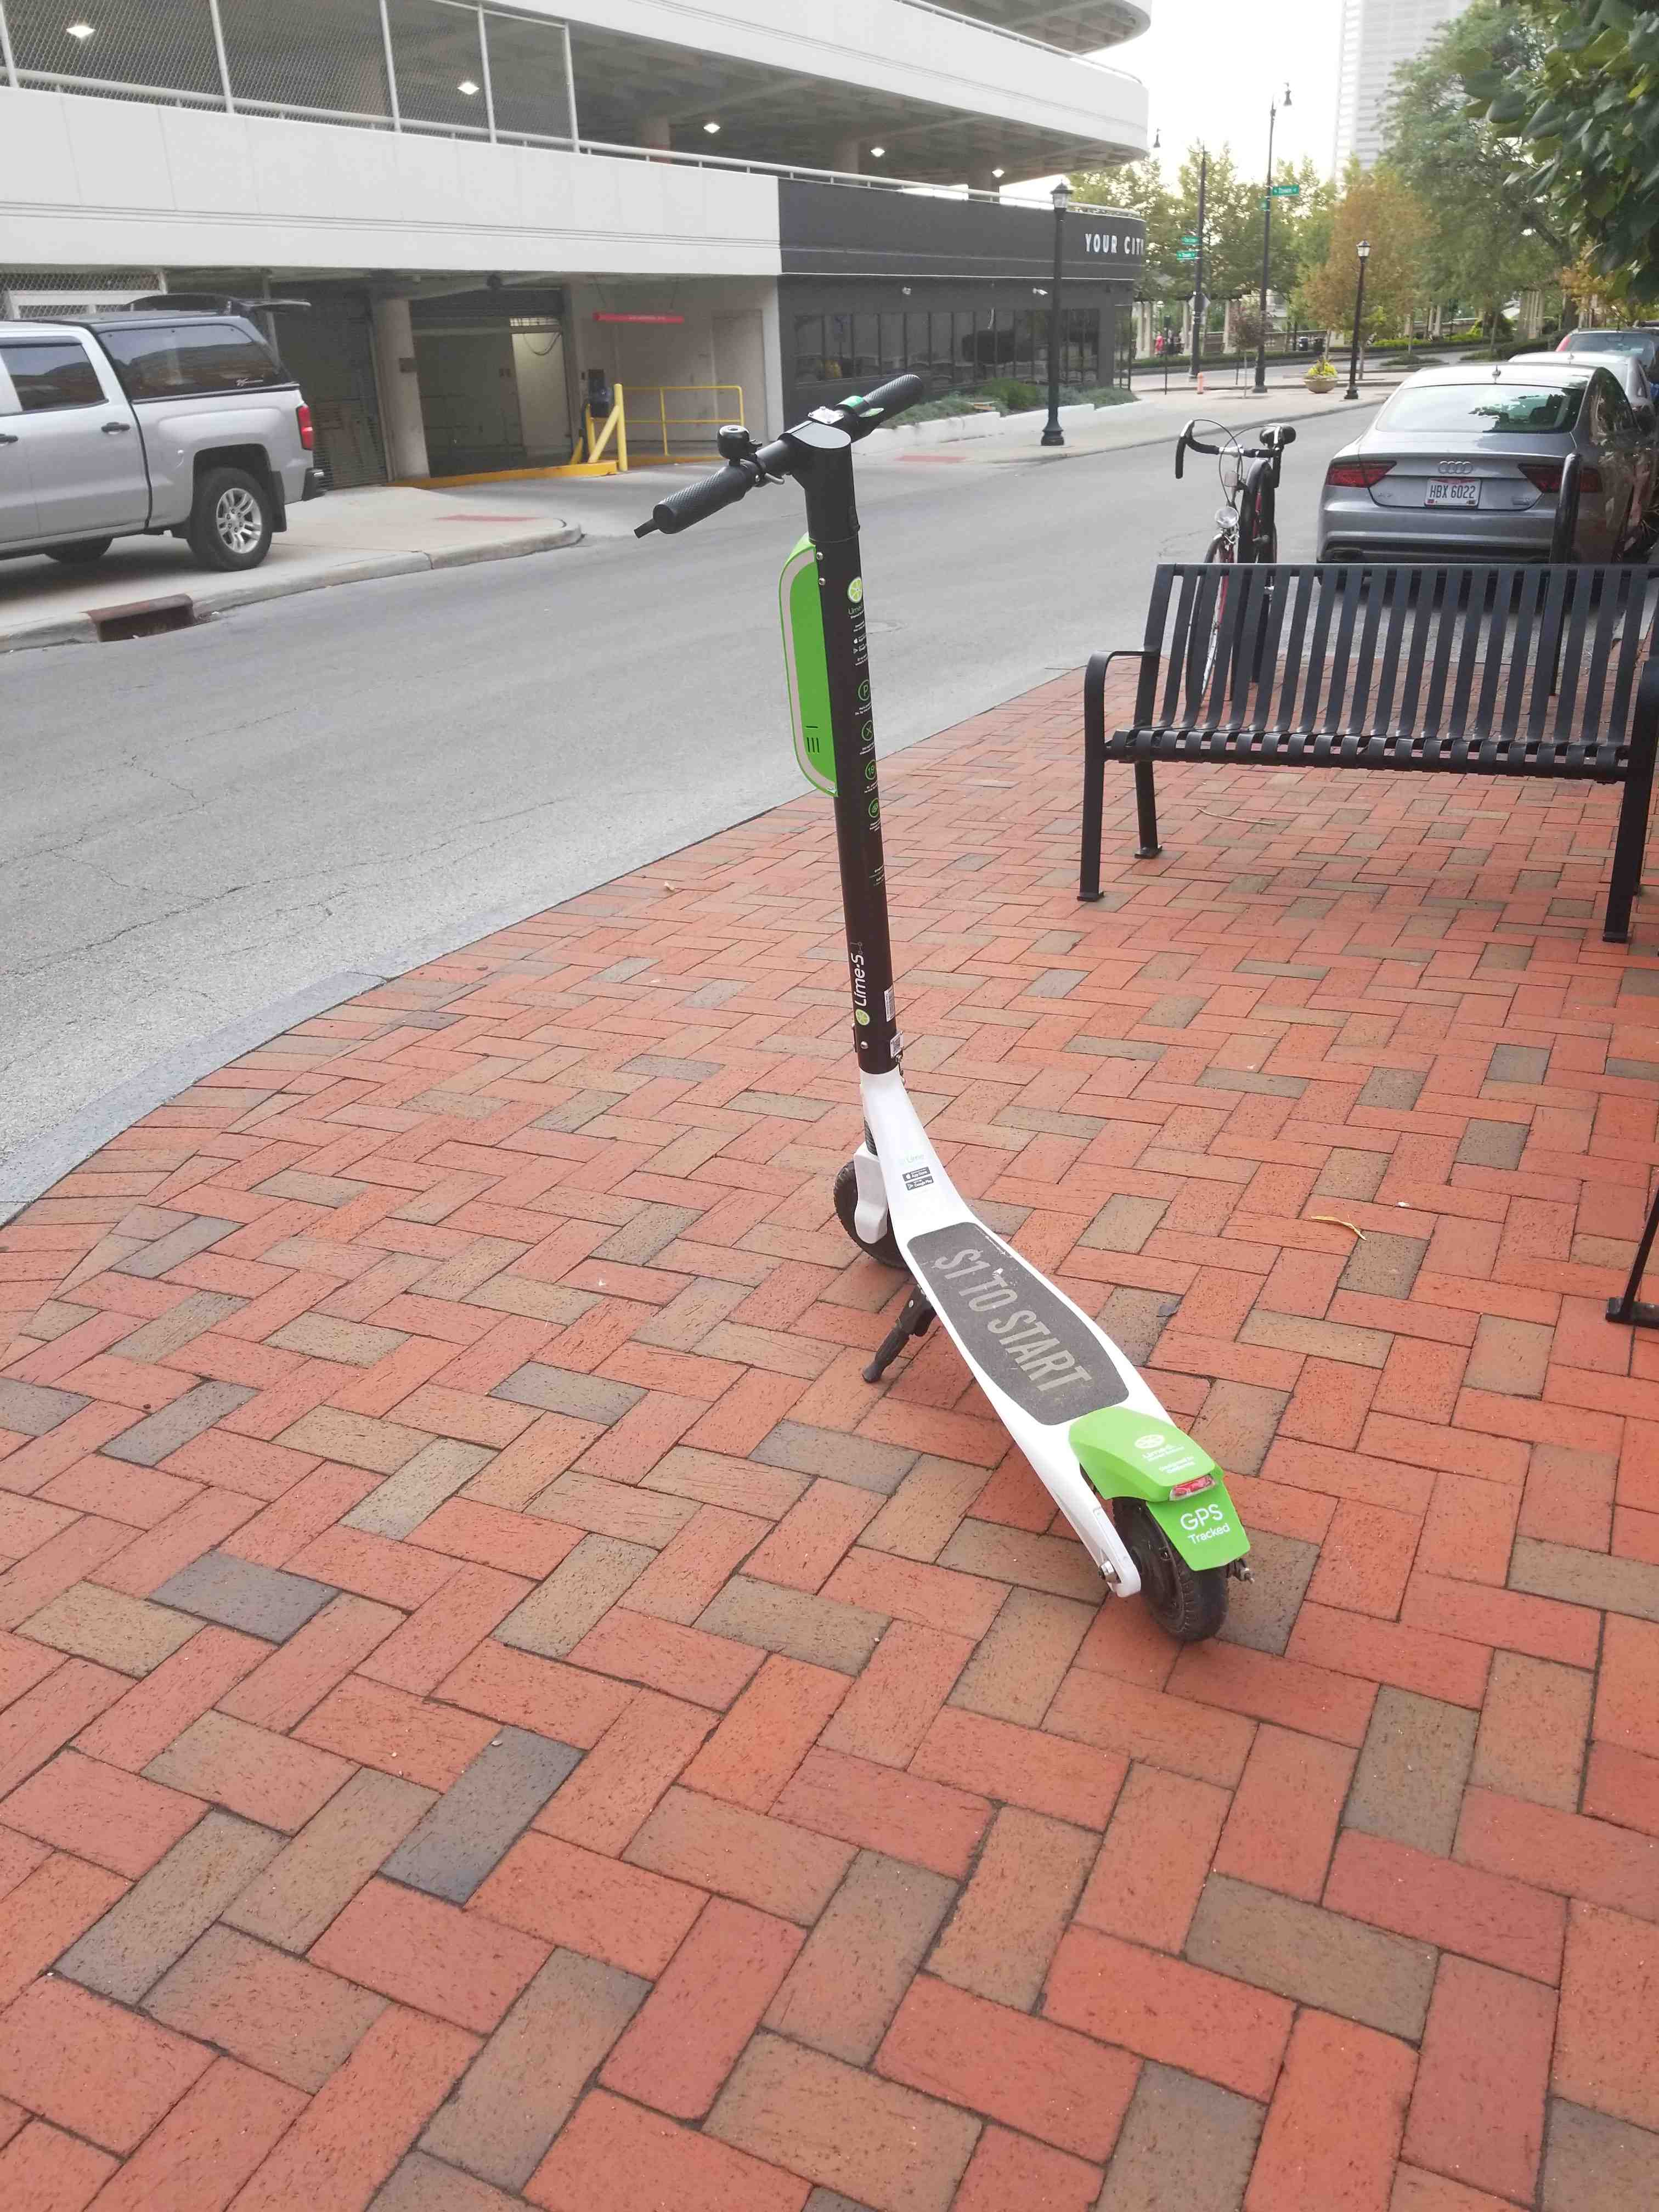scooter: (589, 362, 1302, 1639)
